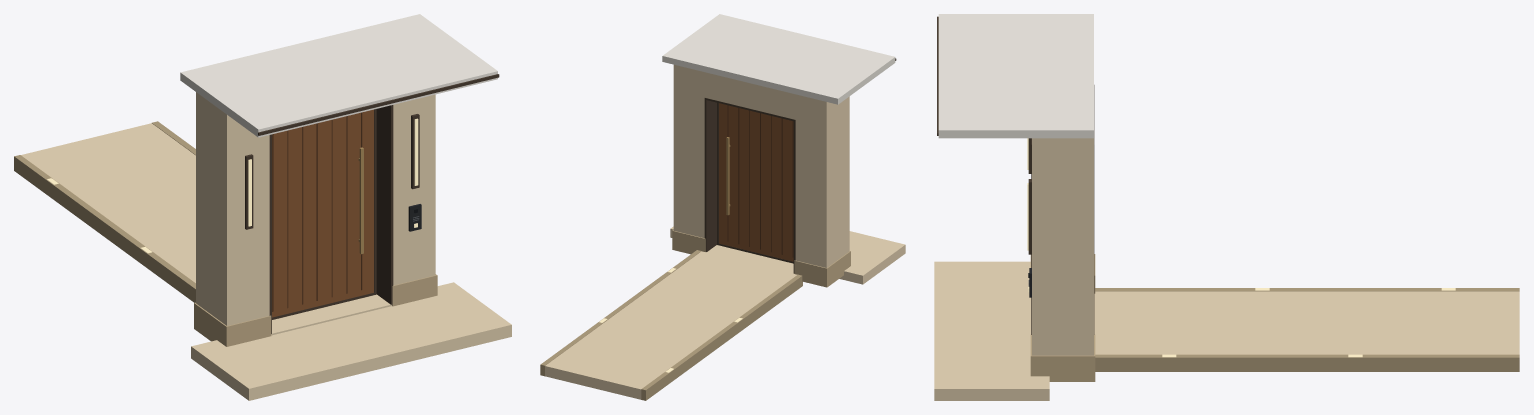
The model's file is entrance.glb.
The picture shows the model from 3 angles, left to right: view 1: azimuth 30°, elevation 25°; view 2: azimuth 150°, elevation 25°; view 3: azimuth 270°, elevation 25°; orthographic projection. The views are drawn at different scales.
Visible parts, largest first — view 1: villa-entrance, entrance:plain, villa-entrance-door, entrance:bulbs; view 2: villa-entrance, entrance:plain, villa-entrance-door; view 3: villa-entrance, entrance:plain.
Part boxes in pixels (x1,y1,x2,y2): villa-entrance: (21, 92, 511, 400); entrance:plain: (14, 14, 499, 333); villa-entrance-door: (272, 109, 376, 319); entrance:bulbs: (47, 118, 418, 253); villa-entrance: (545, 64, 905, 399); entrance:plain: (540, 14, 896, 400); villa-entrance-door: (717, 102, 793, 263); villa-entrance: (934, 138, 1519, 400); entrance:plain: (937, 14, 1519, 371).
Bounding box in the file's own units: 3.4 × 3.3 × 6.6.
